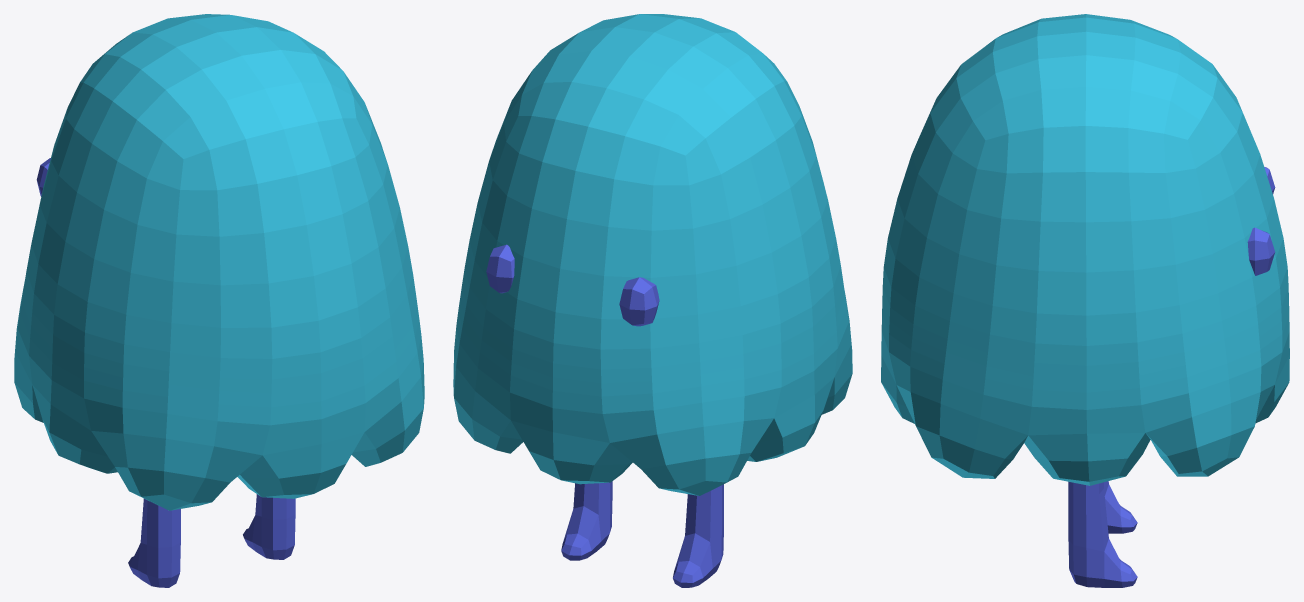
File: ghost.fbx
3 views of the same model, side by side, from view 1: azimuth 30°, elevation 25°; view 2: azimuth 150°, elevation 25°; view 3: azimuth 270°, elevation 25° (orthographic). The views are drawn at different scales.
Parts seen in each view (by area): view 1: GEO_BOD.001, GEO_L_LEG, GEO_R_LEG; view 2: GEO_BOD.001, GEO_L_LEG, GEO_R_LEG, GEO_R_EYE.001, GEO_R_EYE; view 3: GEO_BOD.001, GEO_R_LEG, GEO_R_EYE, GEO_L_LEG.
Part boxes in pixels (box(x1,y1,x2,y2)): GEO_BOD.001: box(14, 14, 424, 510); GEO_L_LEG: box(128, 498, 180, 587); GEO_R_LEG: box(243, 494, 295, 559); GEO_BOD.001: box(453, 14, 852, 495); GEO_L_LEG: box(673, 484, 723, 587); GEO_R_LEG: box(561, 481, 612, 560); GEO_R_EYE.001: box(619, 277, 659, 326); GEO_R_EYE: box(486, 244, 514, 293); GEO_BOD.001: box(881, 14, 1289, 485); GEO_R_LEG: box(1068, 481, 1137, 587); GEO_R_EYE: box(1247, 227, 1275, 275); GEO_L_LEG: box(1104, 481, 1137, 533).
Bounding box in the file's own units: 170 × 261 × 184.
